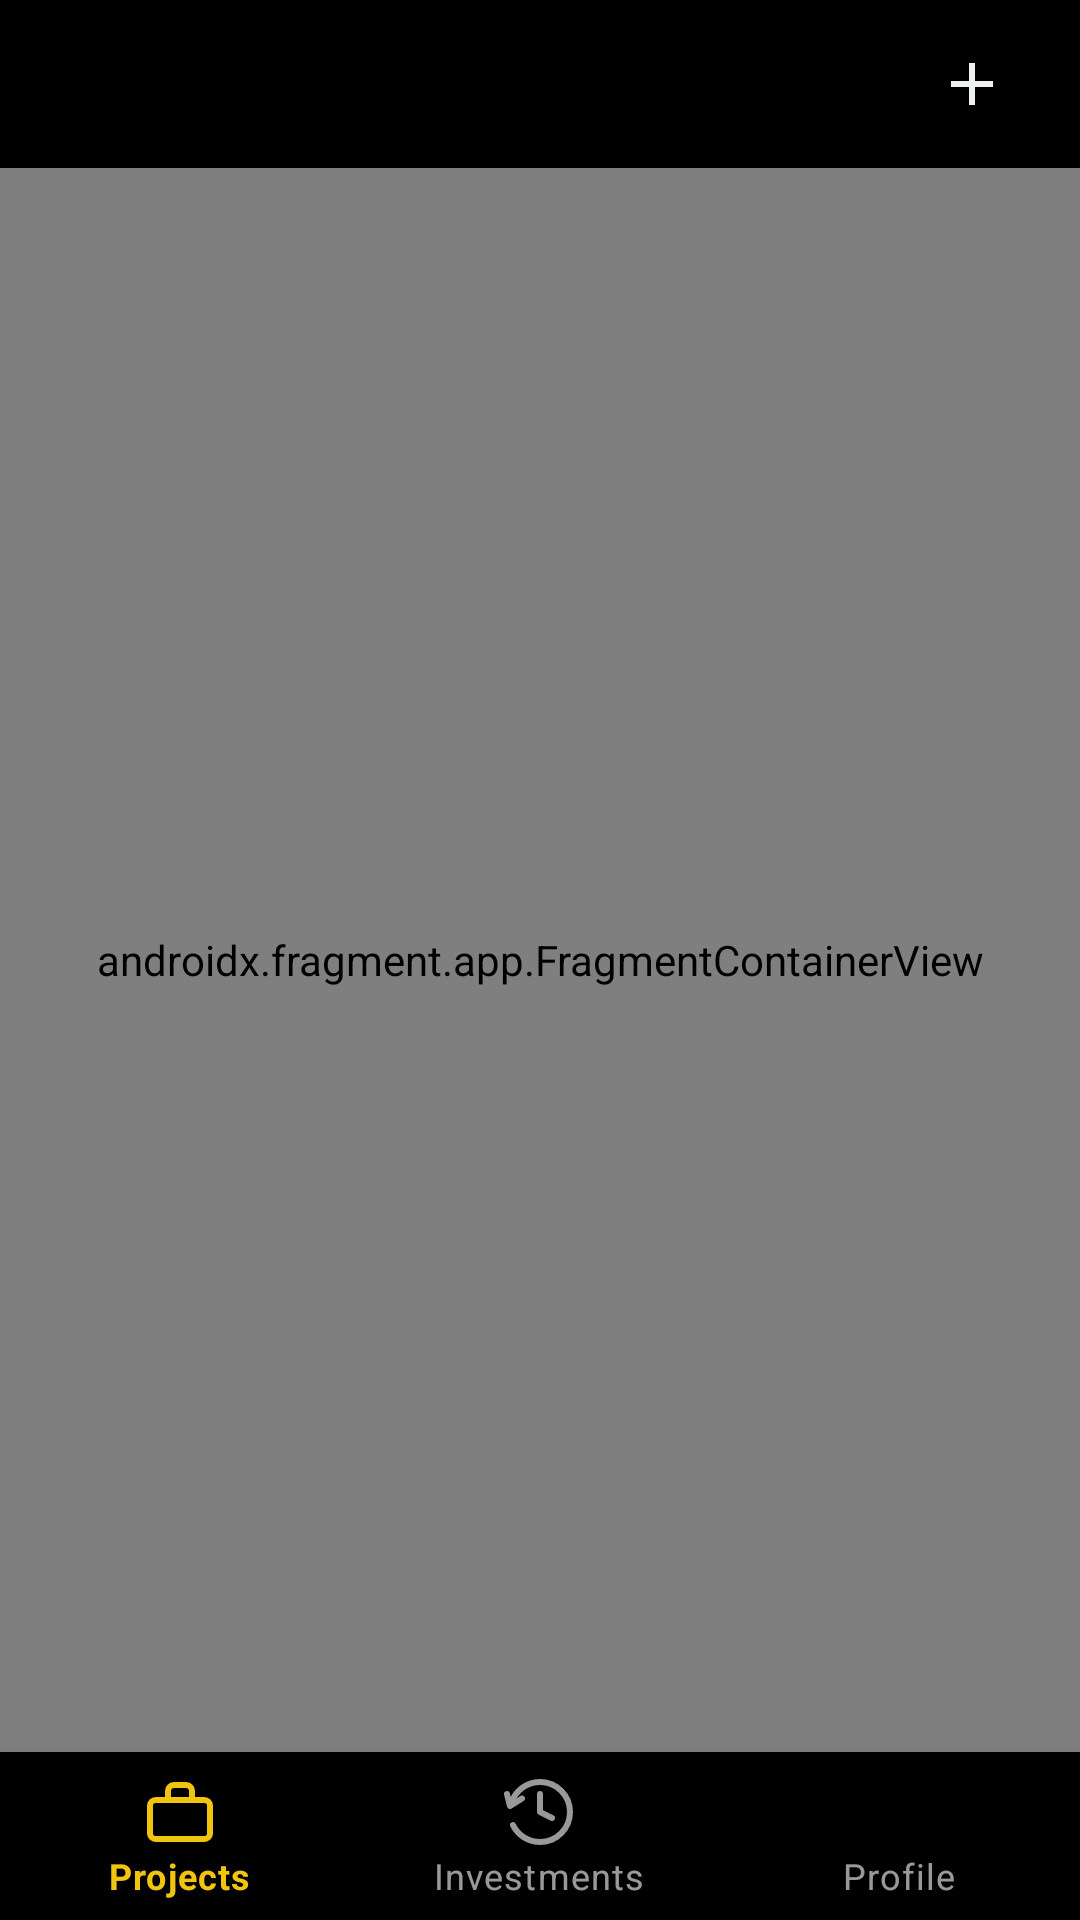

Icon bounding boxes for this 1080px x 1920px phone screenshot, format (x1, y1, x2, y2):
add: (951, 63, 993, 105)
